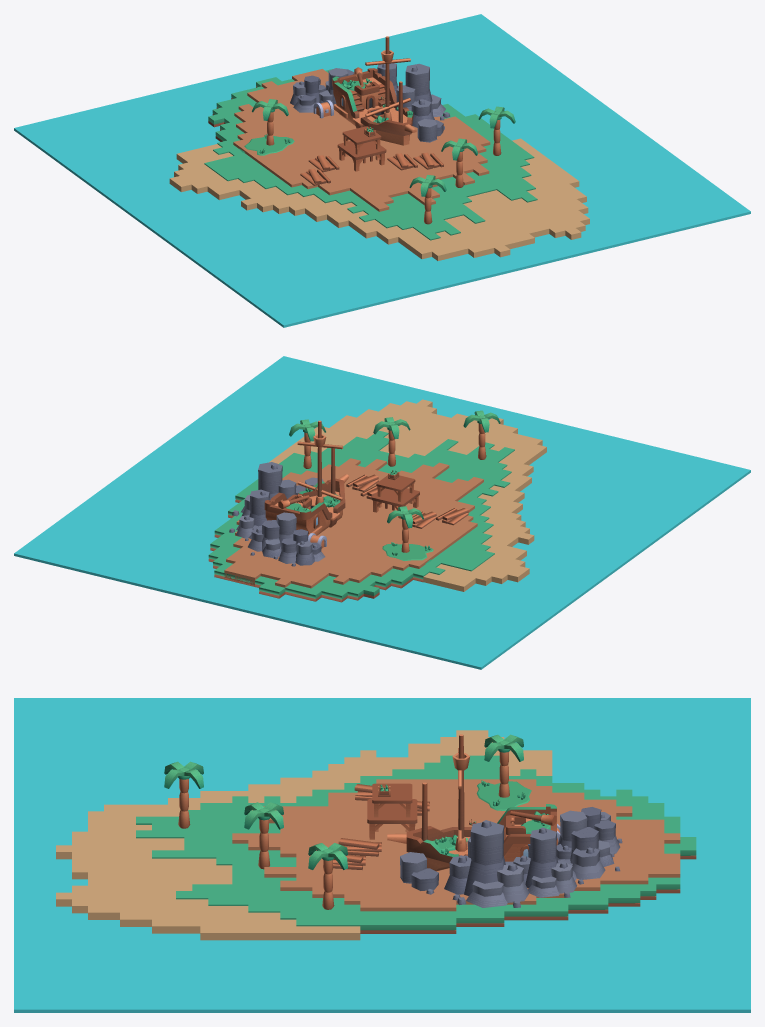
The model's file is GameMap2.glb.
The picture shows the model from 3 angles, top to bottom: view 1: azimuth 30°, elevation 25°; view 2: azimuth 150°, elevation 25°; view 3: azimuth 270°, elevation 25°; orthographic projection. The views are drawn at different scales.
Visible parts, largest first — view 1: square_water, ship-wreck, rocks-b, square_sand.024, square_rock.006, square_rock.004, square_rock.008, square_rock.005, square_rock.007, square_sand.025, rocks-c, square_rock.003 (+32 smaller); view 2: square_water, ship-wreck, rocks-a.001, square_rock.006, square_rock.008, square_rock.004, square_sand.024, square_rock.007, square_rock.005, rocks-c, rocks-b, square_sand.025 (+31 smaller); view 3: square_water, rocks-b, ship-wreck, square_sand.024, rocks-b.001, rocks-a.001, square_sand.032, square_forest_detail.027, square_forest_detail.029, square_forest_detail.028, square_sand.025, square_forest_detail.025 (+61 smaller).
Part boxes in pixels (<box>): square_water: <box>14,14,750,327</box>; ship-wreck: <box>332,36,416,145</box>; rocks-b: <box>395,63,450,127</box>; square_sand.024: <box>463,195,534,249</box>; square_rock.006: <box>247,90,397,197</box>; square_rock.004: <box>238,104,389,211</box>; square_rock.008: <box>261,81,435,205</box>; square_rock.005: <box>256,106,393,204</box>; square_rock.007: <box>258,88,407,195</box>; square_sand.025: <box>477,190,549,237</box>; rocks-c: <box>290,75,325,112</box>; square_rock.003: <box>234,110,349,192</box>; square_water: <box>14,356,750,669</box>; ship-wreck: <box>264,420,348,535</box>; rocks-a.001: <box>248,512,296,557</box>; square_rock.006: <box>301,480,451,588</box>; square_rock.008: <box>275,462,449,587</box>; square_rock.004: <box>333,477,483,584</box>; square_sand.024: <box>400,413,478,457</box>; square_rock.007: <box>291,478,441,585</box>; square_rock.005: <box>329,478,467,577</box>; rocks-c: <box>273,529,325,566</box>; rocks-b: <box>232,462,296,516</box>; square_sand.025: <box>379,413,450,455</box>; square_water: <box>14,698,750,1012</box>; rocks-b: <box>444,820,529,907</box>; ship-wreck: <box>387,734,556,871</box>; square_sand.024: <box>72,852,232,879</box>; rocks-b.001: <box>513,827,583,897</box>; rocks-a.001: <box>556,810,620,879</box>; square_sand.032: <box>200,926,360,940</box>; square_forest_detail.027: <box>248,904,568,920</box>; square_forest_detail.029: <box>296,918,456,933</box>; square_forest_detail.028: <box>280,911,504,926</box>; square_sand.025: <box>88,872,232,885</box>; square_forest_detail.025: <box>176,891,640,906</box>.
Bounding box in the file's own units: 92.1 × 20.63 × 92.1.
133 materials, 20 textured.
